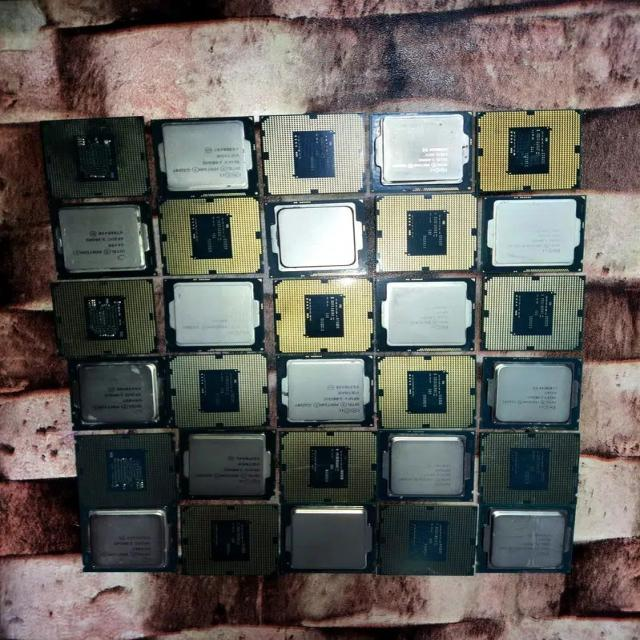electronic: (40, 109, 588, 577)
